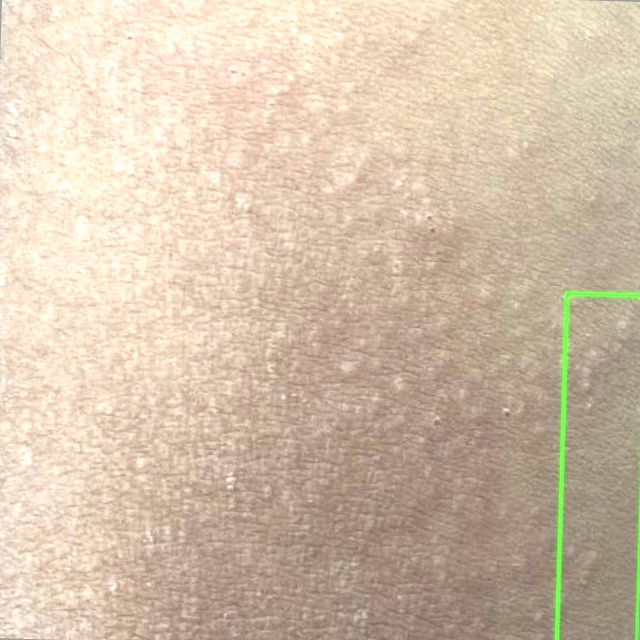Contact Dermatitis: (555, 293, 639, 639)
